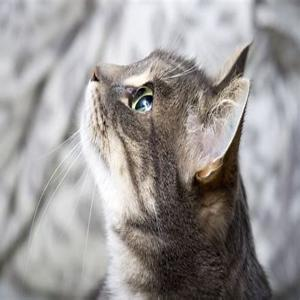cat: (85, 54, 243, 185)
